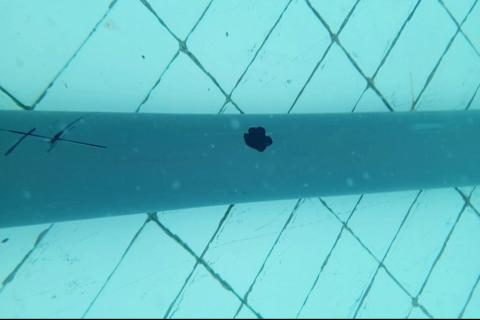kebocoran: (242, 124, 274, 154)
keretakan: (0, 117, 106, 157)
